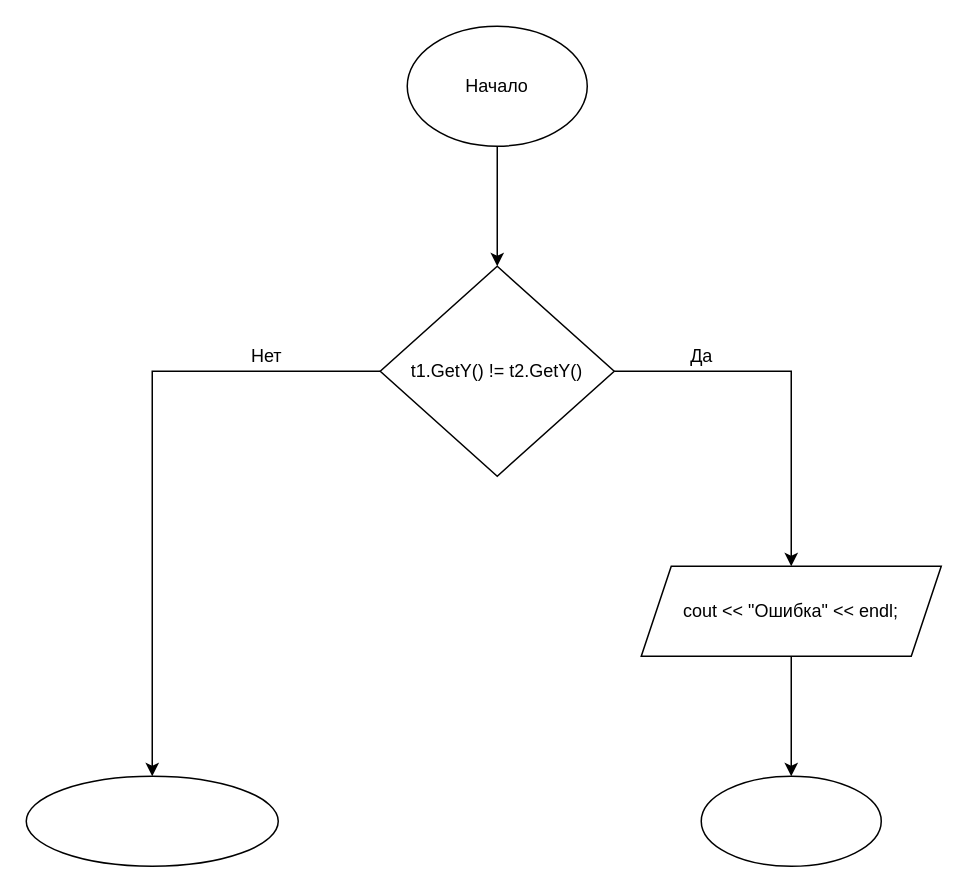
Some shapes in this 968 by 893 pixel diagram are drawn without their labels. The shapes that lost their labels are listed below. From the top down, each one's centre as x and y in pixels, then its label:
At point 151,820: "return Term(t1.x + t2.x, t1.y);".
At point 790,820: "exit(0);".
